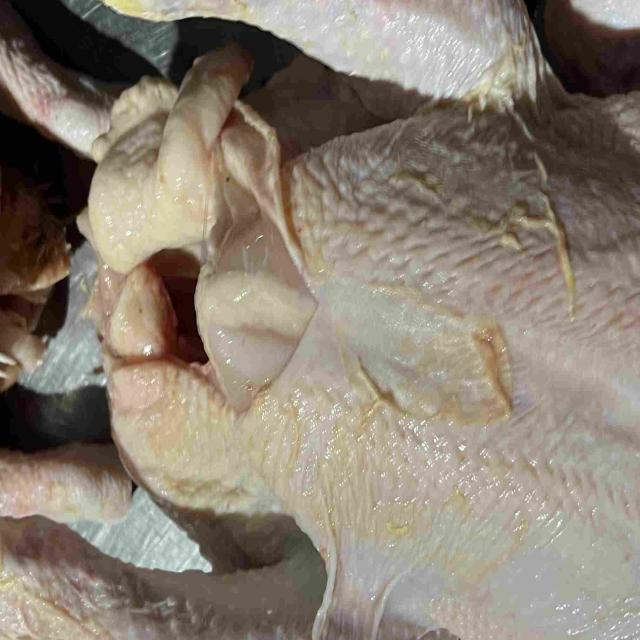breast: (205, 111, 640, 640)
leg: (87, 0, 552, 127), (0, 513, 447, 640), (0, 447, 128, 526)
